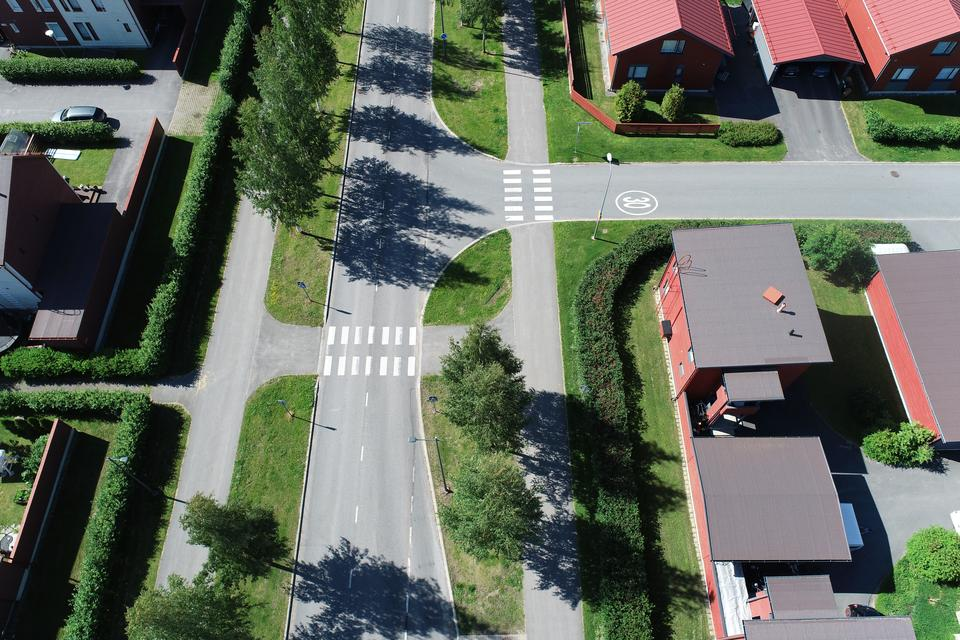intersection: (195, 290, 579, 414), (323, 99, 571, 256)
